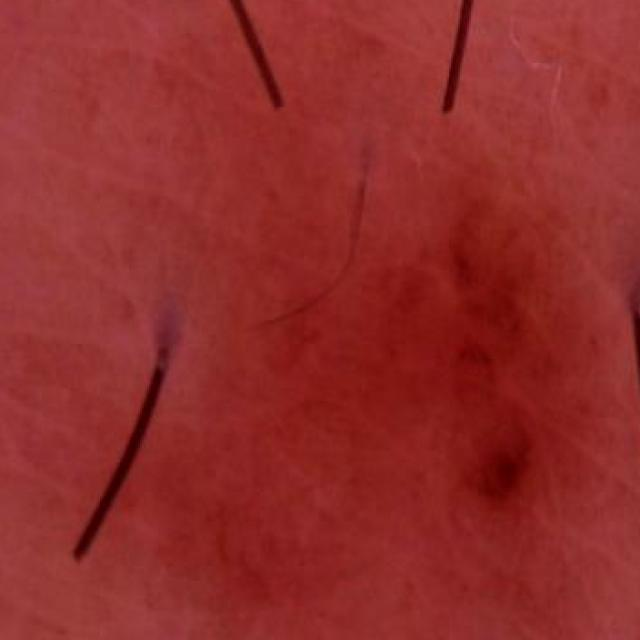NV: (178, 133, 629, 612)
